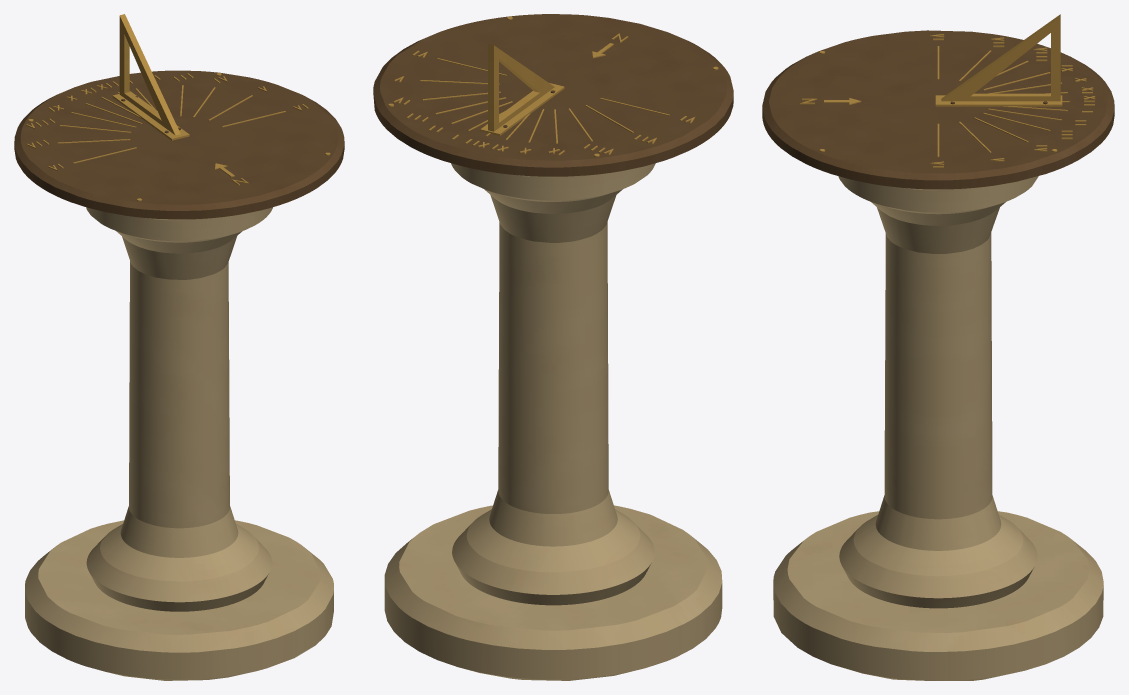
The model's file is sundial.glb.
The picture shows the model from 3 angles, left to right: view 1: azimuth 30°, elevation 25°; view 2: azimuth 150°, elevation 25°; view 3: azimuth 270°, elevation 25°; orthographic projection. The views are drawn at different scales.
Visible parts, largest first — view 1: garden-sundial — STATIC material batch; view 2: garden-sundial — STATIC material batch; view 3: garden-sundial — STATIC material batch.
Boxes of the visible parts, left/top/right/bottom form: garden-sundial — STATIC material batch: left=14, top=14, right=344, bottom=680; garden-sundial — STATIC material batch: left=373, top=14, right=733, bottom=680; garden-sundial — STATIC material batch: left=762, top=14, right=1114, bottom=680.
Size of the model in its own units: 0.32 by 0.6067 by 0.32.
3 materials, 3 textured.
